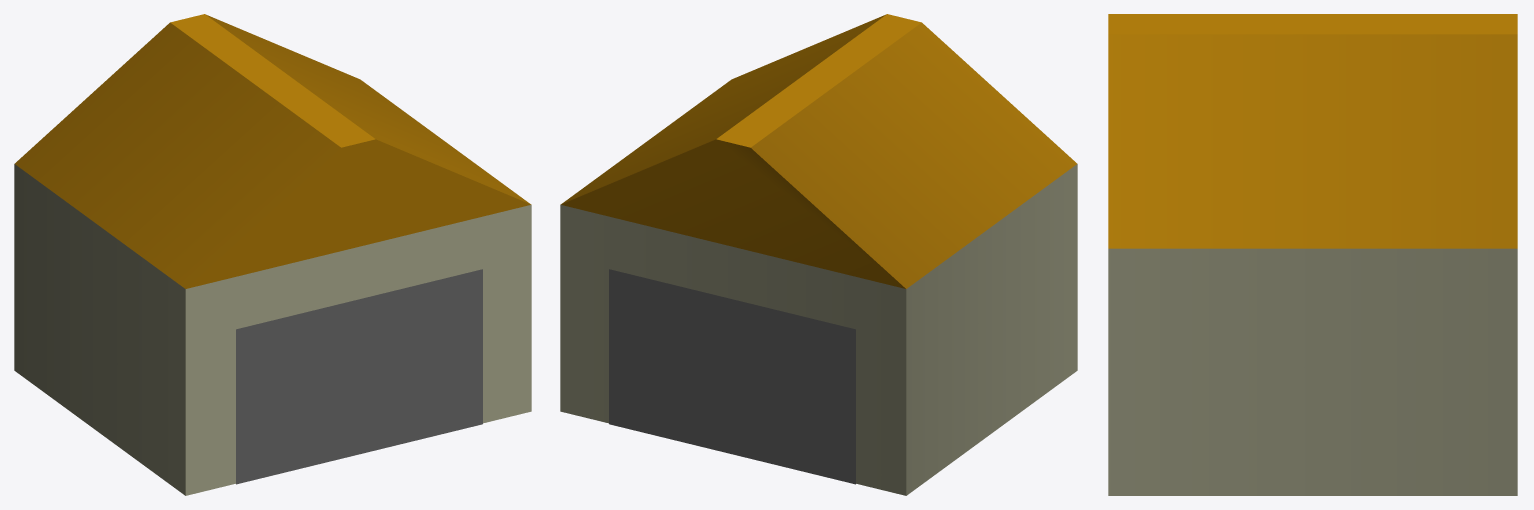
File: hangar-high.glb
3 views of the same model, side by side, from view 1: azimuth 30°, elevation 25°; view 2: azimuth 150°, elevation 25°; view 3: azimuth 270°, elevation 25° (orthographic). The views are drawn at different scales.
Visible parts, largest first — view 1: mesh0; view 2: mesh0; view 3: mesh0.
Boxes of the visible parts, x1,y1,x2,y2 form: mesh0: (14, 14, 531, 495); mesh0: (560, 14, 1077, 495); mesh0: (1108, 14, 1517, 495).
Bounding box in the file's own units: 0.7 × 0.6 × 0.606.
